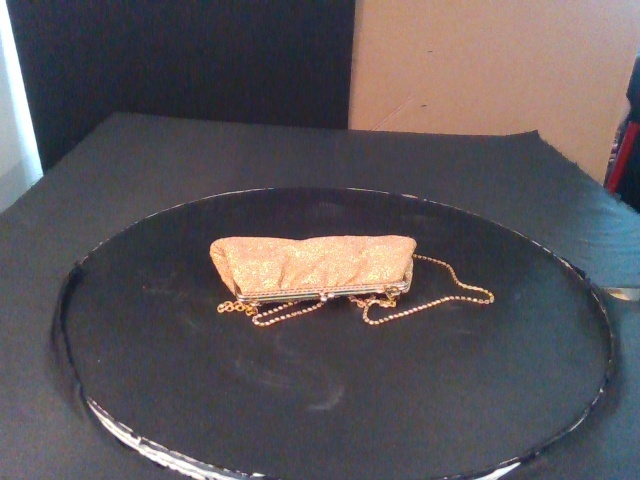bag: (209, 234, 417, 302)
